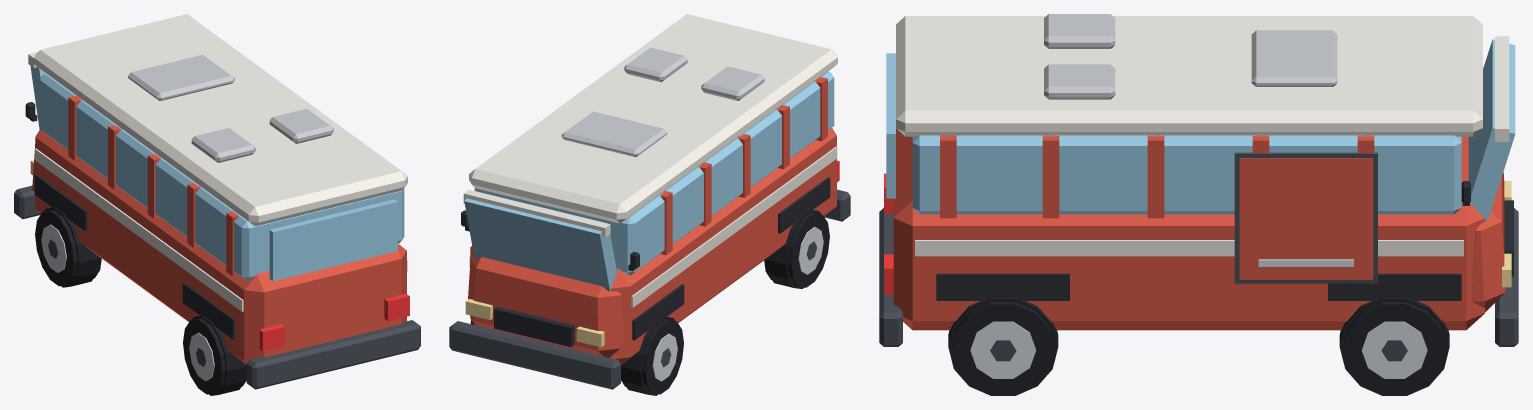
The model's file is minibus.glb.
3 renders of one model, left to right at view 1: azimuth 30°, elevation 25°; view 2: azimuth 150°, elevation 25°; view 3: azimuth 270°, elevation 25°, orthographic. The views are drawn at different scales.
Visible parts, largest first — view 1: Body, Wheel_0L, Wheel_1L; view 2: Body, Wheel_1L, Wheel_0L; view 3: Body, Wheel_0R, Wheel_1R.
Part boxes in pixels (x1=…): Body: x1=14, y1=14, x2=420, y2=389; Wheel_0L: x1=35, y1=207, x2=101, y2=287; Wheel_1L: x1=183, y1=315, x2=246, y2=395; Body: x1=449, y1=14, x2=850, y2=389; Wheel_1L: x1=764, y1=210, x2=829, y2=288; Wheel_0L: x1=621, y1=316, x2=683, y2=395; Body: x1=879, y1=14, x2=1518, y2=346; Wheel_0R: x1=1339, y1=298, x2=1449, y2=395; Wheel_1R: x1=948, y1=298, x2=1058, y2=395.
Size of the model in its own units: 1.16 by 1.34 by 2.68.
1 material, 1 textured.
